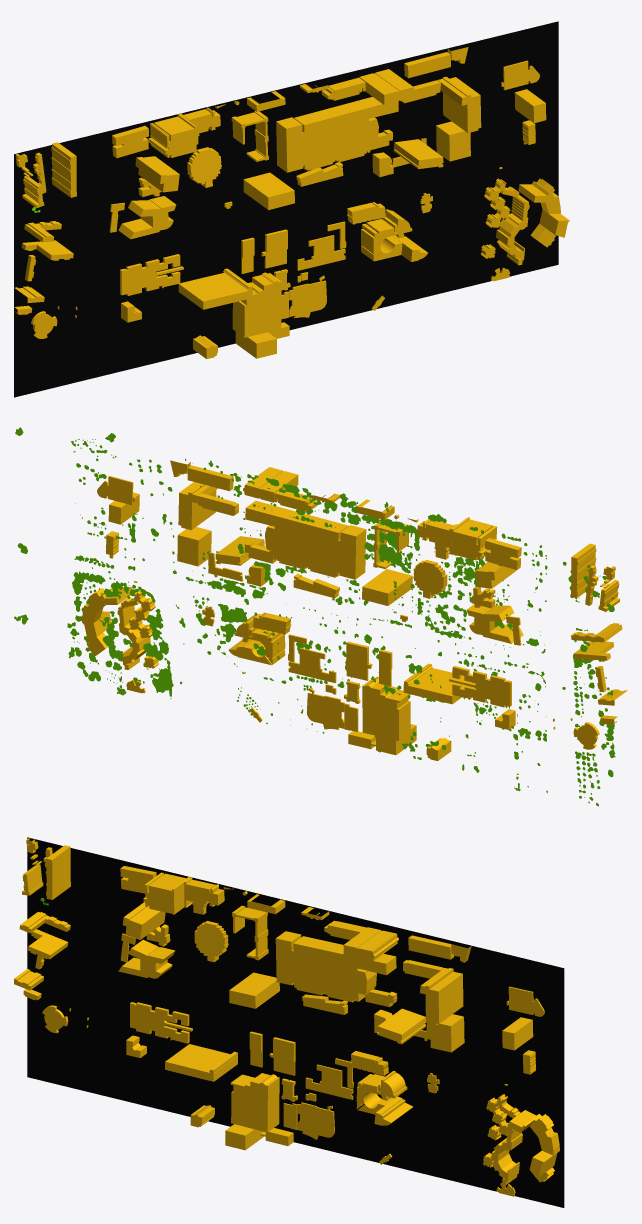
Rendered from existing_buildings_05.glb.
3 views of the same model, one above another, from view 1: azimuth 30°, elevation 25°; view 2: azimuth 150°, elevation 25°; view 3: azimuth 330°, elevation 25° (orthographic).
Parts seen in each view (by area): view 1: Layer 04, existing_building, existing_building - Copy; view 2: existing_building, treesurface, existing_building - Copy; view 3: Layer 04, existing_building, existing_building - Copy.
Part boxes in pixels (x1,y1,x2,y2): Layer 04: (14,21,558,397); existing_building: (14,52,569,358); existing_building - Copy: (14,47,560,338); existing_building: (82,465,627,760); treesurface: (14,427,615,806); existing_building - Copy: (82,460,617,749); Layer 04: (27,837,564,1207); existing_building: (14,845,557,1184); existing_building - Copy: (23,838,559,1196).
Bounding box in the file's own units: 1113 × 458 × 78.19.
